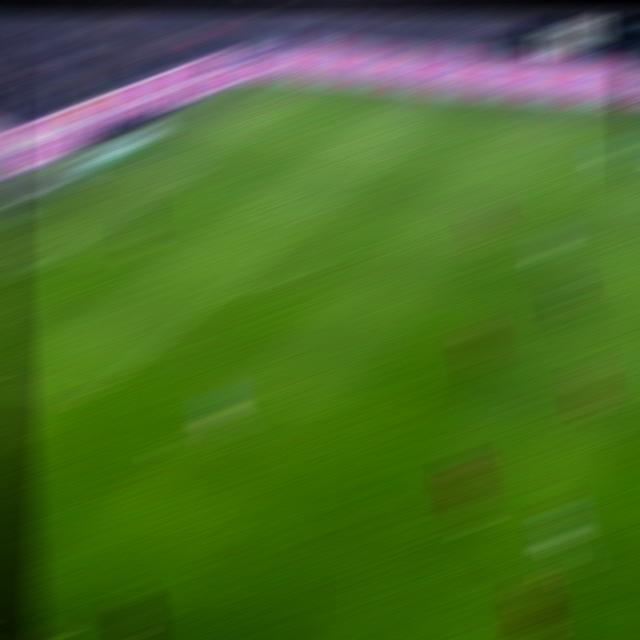bigarea_bottom_inner: (70, 391, 103, 406)
bigarea_top_inner: (382, 145, 412, 155)
bigarea_top_outter: (188, 121, 214, 125)
bottom_arc_area_intersection: (207, 287, 236, 295)
corner: (259, 78, 296, 86)
smallarea_bottom_inner: (13, 264, 45, 280)
smallarea_top_inner: (178, 172, 205, 181)
smallarea_top_outter: (112, 163, 139, 169)
top_arc_area_intersection: (313, 202, 341, 211)
